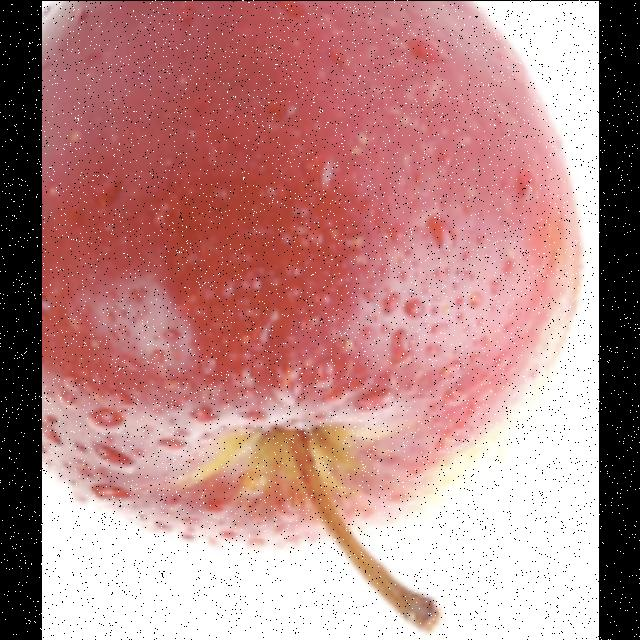Apel Segar: (41, 0, 578, 548)
